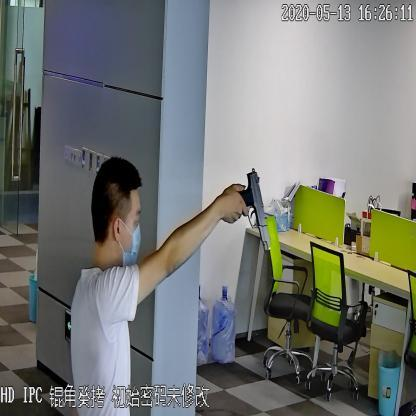gun: (221, 151, 279, 267)
